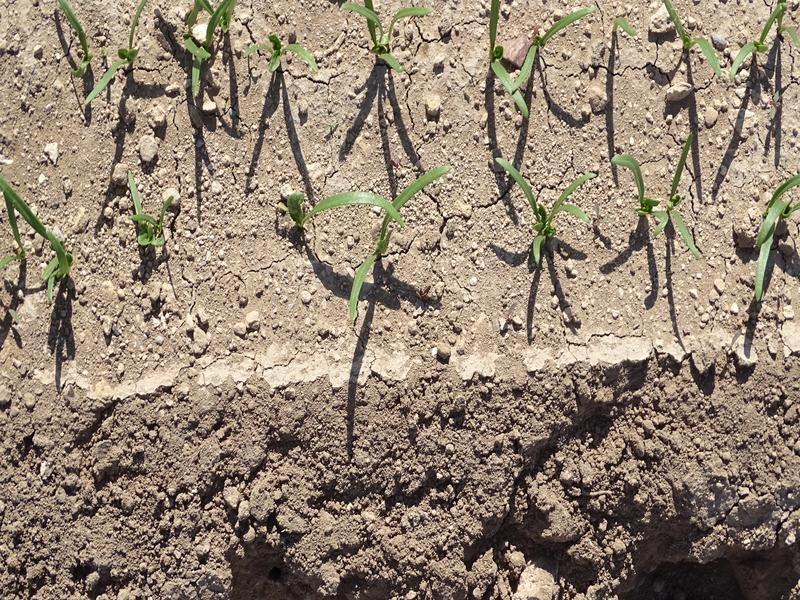Espinaca: (283, 168, 438, 312), (489, 151, 591, 261), (611, 146, 698, 253), (55, 9, 154, 100), (495, 9, 584, 109), (662, 4, 783, 77), (2, 182, 74, 293), (336, 4, 426, 76), (174, 5, 241, 94), (753, 173, 795, 307), (121, 173, 178, 249), (250, 37, 309, 81)
